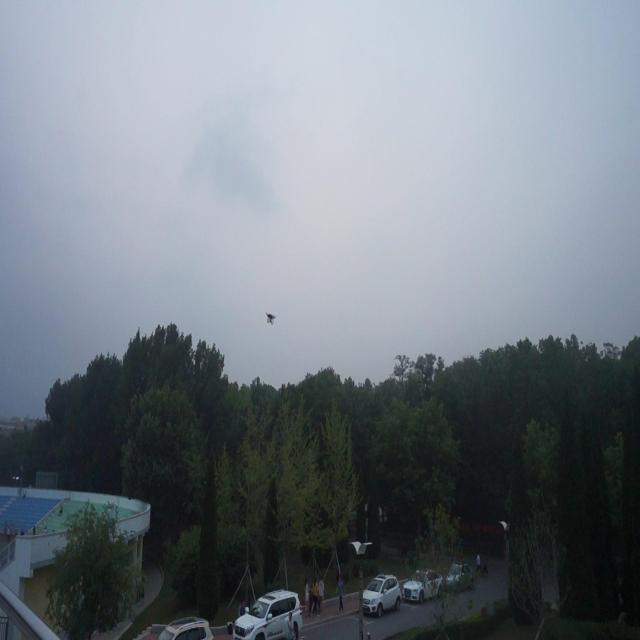drone: (262, 308, 278, 328)
